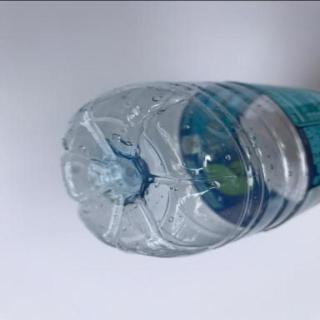Anorganik: (53, 67, 320, 261)
